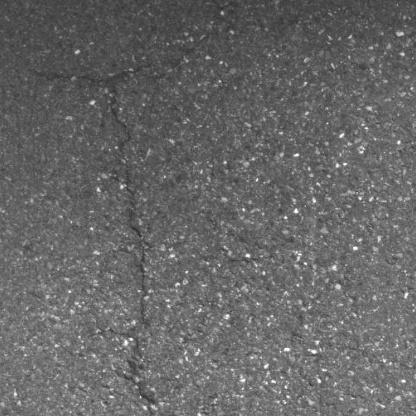Cracks: (28, 58, 159, 330), (97, 324, 170, 416)
